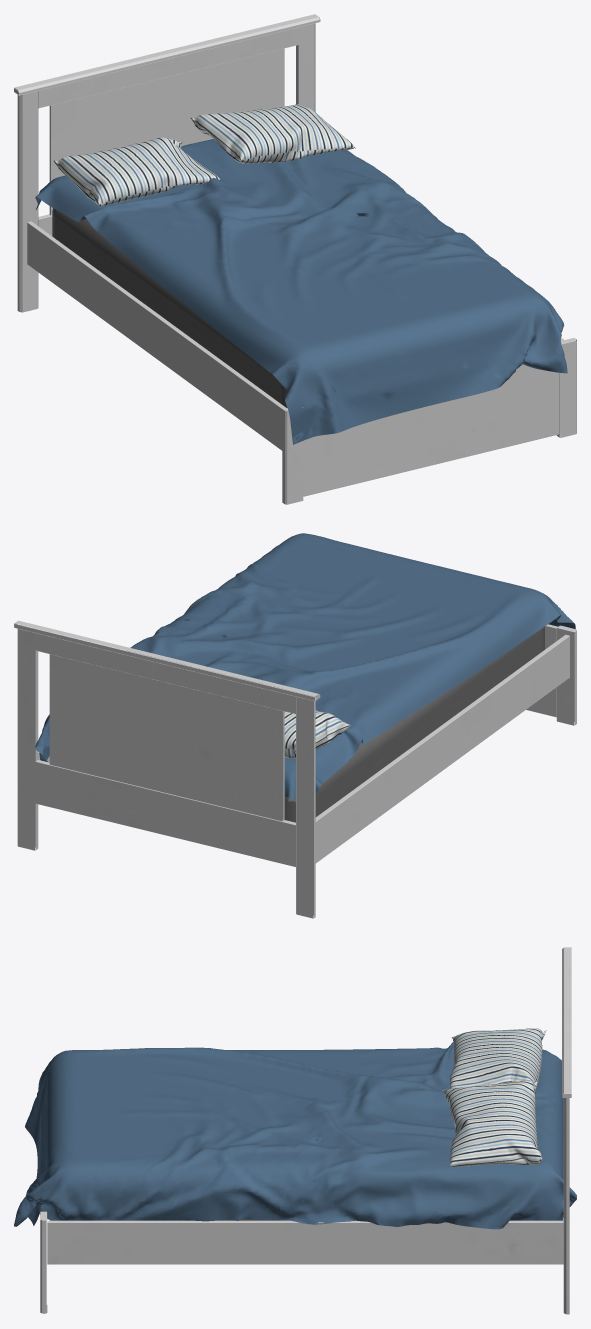
File: bed-10.glb
3 views of the same model, one above another, from view 1: azimuth 30°, elevation 25°; view 2: azimuth 150°, elevation 25°; view 3: azimuth 270°, elevation 25° (orthographic).
Visible parts, largest first — view 1: Sheet, Bed, Matress, Pillow_2, Pillow_1; view 2: Bed, Sheet, Matress, Pillow_2; view 3: Sheet, Bed, Pillow_1, Pillow_2.
Boxes of the visible parts, <box> form: Sheet: <box>35,139,567,444</box>; Bed: <box>14,14,576,504</box>; Matress: <box>52,208,287,407</box>; Pillow_2: <box>54,136,220,206</box>; Pillow_1: <box>191,104,355,163</box>; Bed: <box>14,620,576,918</box>; Sheet: <box>35,533,575,802</box>; Matress: <box>284,627,544,822</box>; Pillow_2: <box>284,710,351,758</box>; Sheet: <box>14,1042,576,1229</box>; Bed: <box>40,947,571,1314</box>; Pillow_1: <box>442,1080,542,1167</box>; Pillow_2: <box>450,1028,546,1094</box>.
Size of the model in its own units: 9.38 by 6.64 by 15.24.
Materials: 5 (5 with a texture image).
